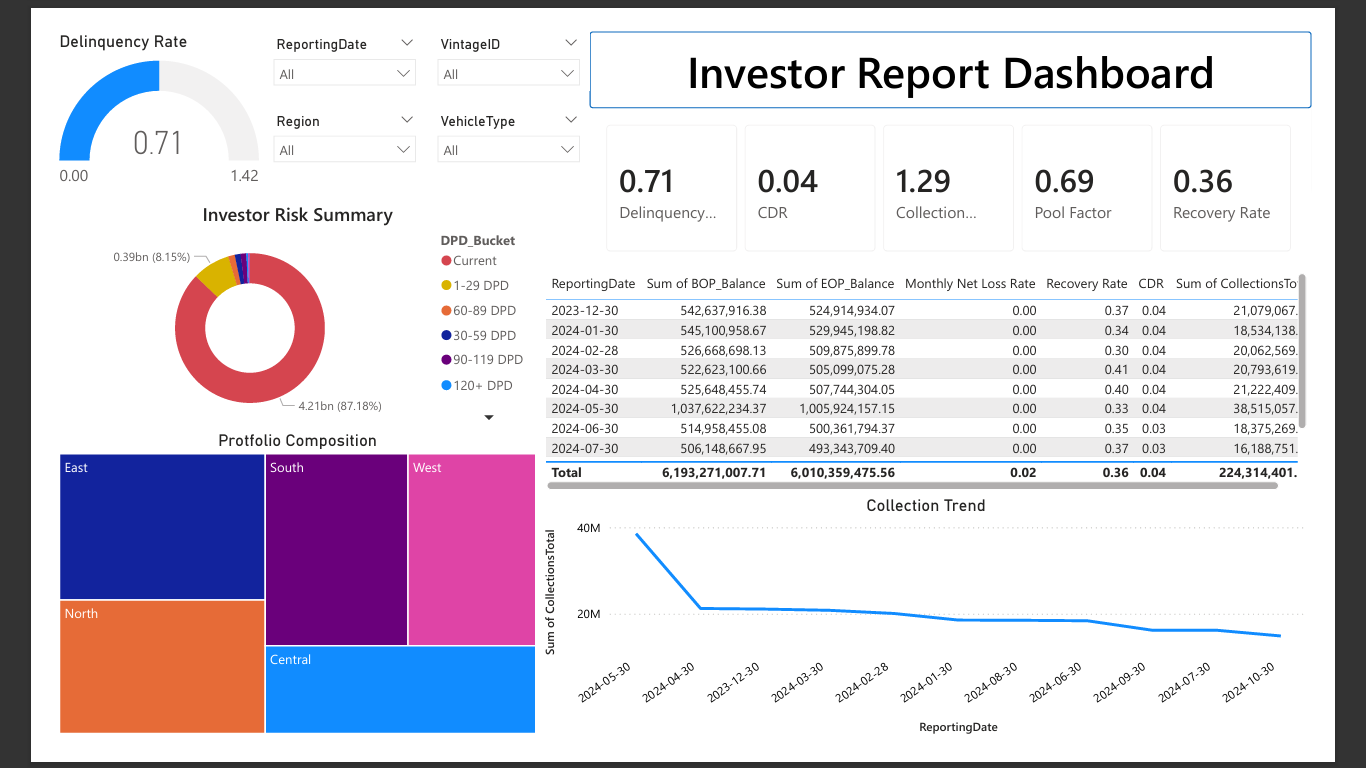

This screenshot's page, from the dashboard's own definition file:
{"tool":"powerbi","page":{"name":"Page 1","canvas":[1280,720],"ordinal":4},"visuals":[{"type":"cardVisual","fields":{"Data":["projects dim_date.Delinquency Rate","projects dim_date.CDR","projects dim_date.Collection Efficiency","projects dim_date.Pool Factor","projects dim_date.Recovery Rate"]},"box":[545,78.5,735,162.4],"z":0},{"type":"gauge","fields":{"Y":["projects dim_date.Delinquency Rate"]},"box":[0,0,213.3,173.4],"z":1},{"type":"lineChart","title":"Collection Trend","fields":{"Category":["projects dynamic_loss_monthly.ReportingDate"],"Y":["Sum(projects dynamic_loss_monthly.CollectionsTotal)"]},"box":[495.5,472.1,784.5,247.7],"z":2},{"type":"treemap","title":"Protfolio Composition","fields":{"Group":["projects dim_loans.Region"],"Values":["CountNonNull(projects dim_loans.CurrentBalance)"]},"box":[0,406,495.5,313.8],"z":3},{"type":"donutChart","title":"Investor Risk Summary","fields":{"Category":["projects fact_loan_performance.DPD_Bucket"],"Y":["Sum(projects fact_loan_performance.CurrentBalance)"]},"box":[0,173.4,495.5,232.6],"z":4},{"type":"tableEx","fields":{"Values":["projects dynamic_loss_monthly.ReportingDate","Sum(projects dynamic_loss_monthly.BOP_Balance)","Sum(projects dynamic_loss_monthly.EOP_Balance)","projects dim_date.Monthly Net Loss Rate","projects dim_date.Recovery Rate","projects dim_date.CDR","Sum(projects dynamic_loss_monthly.CollectionsTotal)"]},"box":[495.5,240.9,784.5,231.2],"z":5},{"type":"shape","box":[545,0,735,78.5],"z":6},{"type":"slicer","fields":{"Values":["projects dynamic_loss_monthly.ReportingDate"]},"box":[213.3,0,165.2,60.6],"z":7},{"type":"slicer","fields":{"Values":["projects dim_loans.Region"]},"box":[213.3,78.5,165.2,60.6],"z":8},{"type":"slicer","fields":{"Values":["projects static_pool.VintageID"]},"box":[379.9,0,165.2,60.6],"z":9},{"type":"slicer","fields":{"Values":["projects dim_loans.VehicleType"]},"box":[379.9,78.5,165.2,70.2],"z":10}]}

Visuals, with their boxes in screenshot pixels (x1, y1, x2, y2), scaled from the page's 1280x720 canvas onto the 1366x768 screenshot:
cardVisual - projects dim_date.Delinquency Rate x projects dim_date.CDR: left=582, top=84, right=1365, bottom=257
gauge - projects dim_date.Delinquency Rate: left=0, top=0, right=228, bottom=185
"Collection Trend" lineChart: left=529, top=504, right=1365, bottom=767
"Protfolio Composition" treemap: left=0, top=433, right=529, bottom=767
"Investor Risk Summary" donutChart: left=0, top=185, right=529, bottom=433
tableEx - projects dynamic_loss_monthly.ReportingDate x Sum(projects dynamic_loss_monthly.BOP_Balance): left=529, top=257, right=1365, bottom=504
shape: left=582, top=0, right=1365, bottom=84
slicer - projects dynamic_loss_monthly.ReportingDate: left=228, top=0, right=404, bottom=65
slicer - projects dim_loans.Region: left=228, top=84, right=404, bottom=148
slicer - projects static_pool.VintageID: left=405, top=0, right=582, bottom=65
slicer - projects dim_loans.VehicleType: left=405, top=84, right=582, bottom=159
